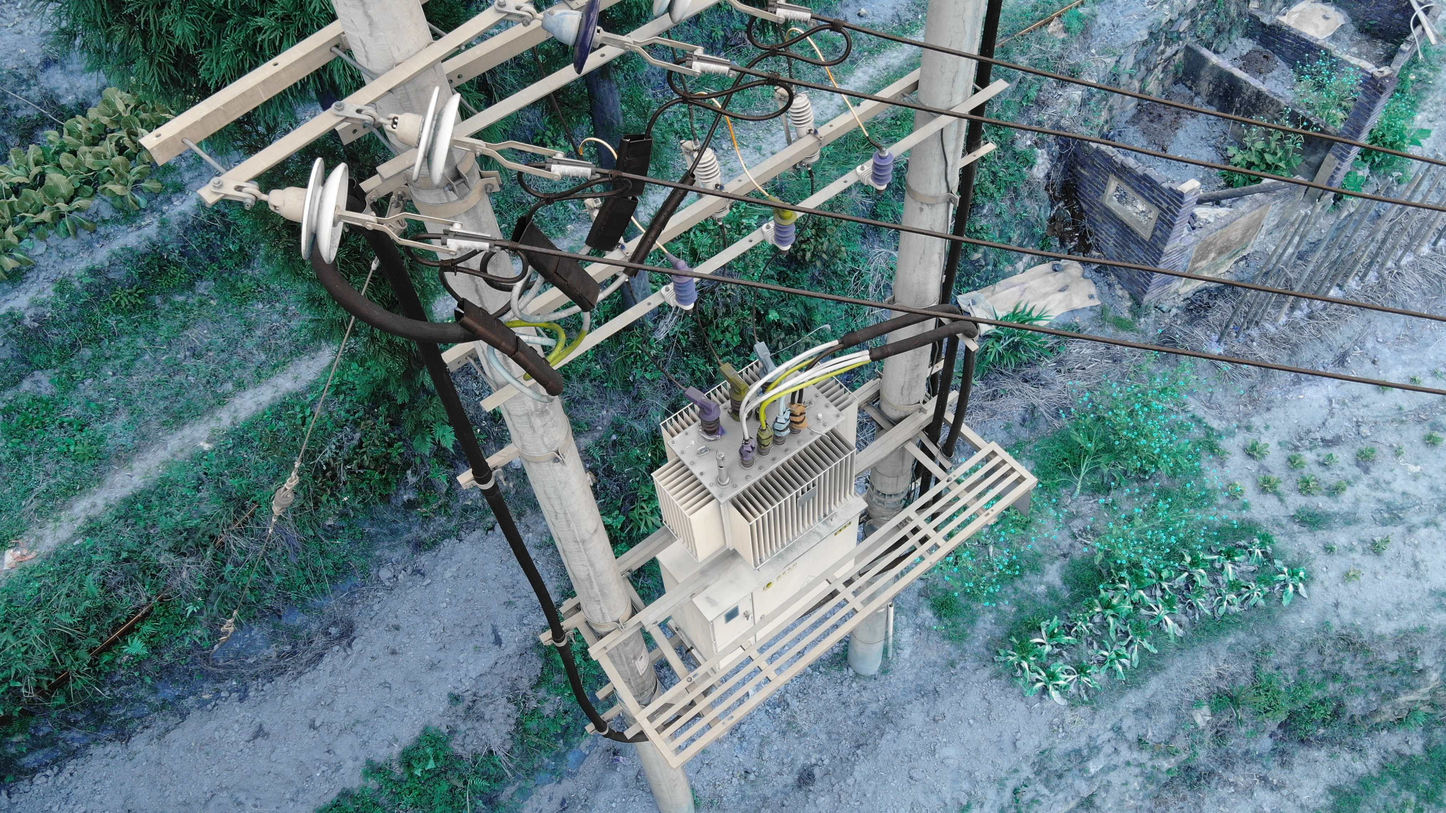severe_soiling_no_discharge_whole: (392, 83, 466, 189)
